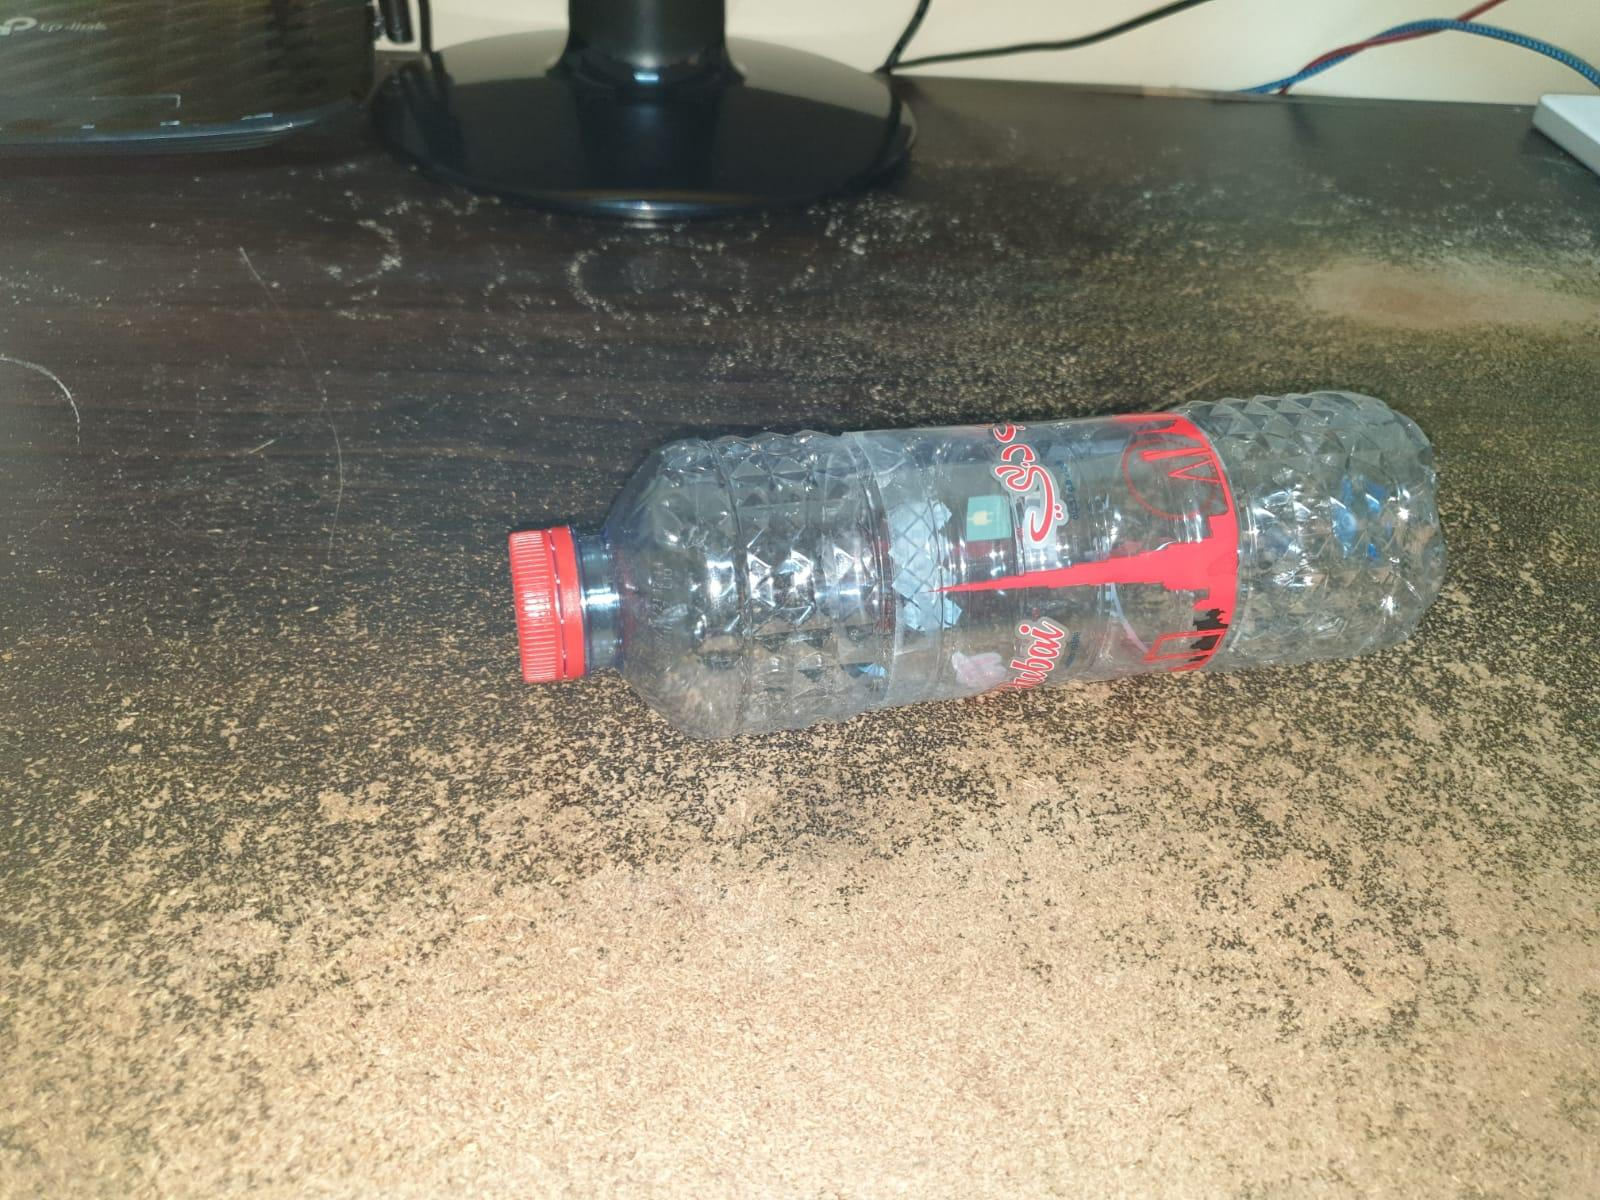bottle: (505, 371, 1468, 761)
